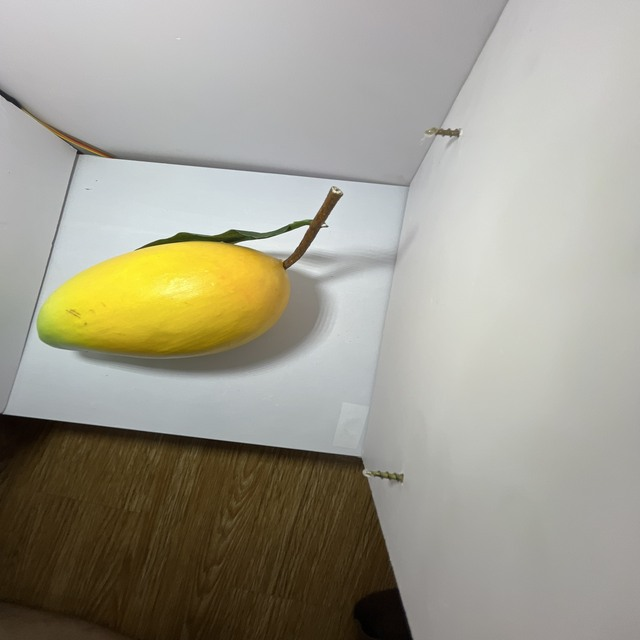Xoai: (31, 234, 296, 359)
